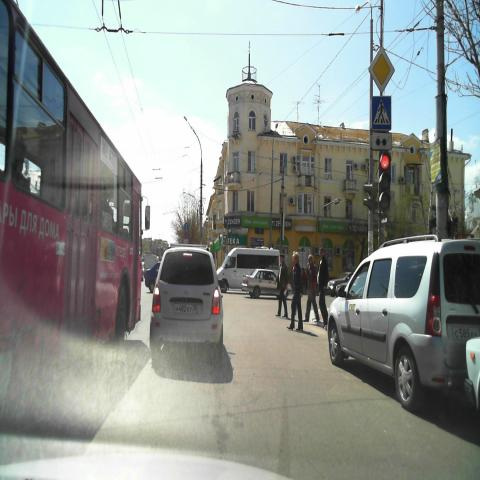8_15: (371, 132, 392, 150)
